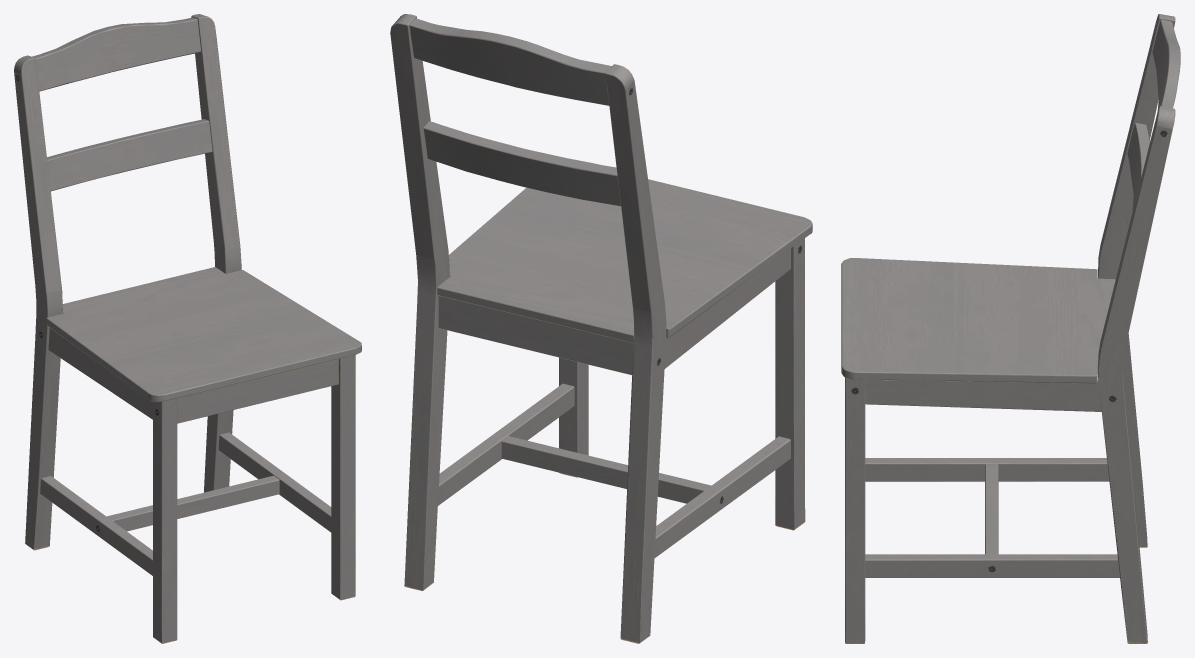
The model's file is 23 - HAUGA - 餐椅, 灰色 IKEA 線上購物.glb.
3 views of the same model, side by side, from view 1: azimuth 30°, elevation 25°; view 2: azimuth 150°, elevation 25°; view 3: azimuth 270°, elevation 25° (orthographic). The views are drawn at different scales.
Visible parts, largest first — view 1: ASY_ART_30576717_S01_NV01; view 2: ASY_ART_30576717_S01_NV01; view 3: ASY_ART_30576717_S01_NV01.
Part boxes in pixels (x1=…): ASY_ART_30576717_S01_NV01: x1=14, y1=14, x2=361, y2=643; ASY_ART_30576717_S01_NV01: x1=390, y1=14, x2=812, y2=643; ASY_ART_30576717_S01_NV01: x1=841, y1=14, x2=1180, y2=643.
Bounding box in the file's own units: 0.3986 × 0.8707 × 0.4985.
Materials: 1 (1 with a texture image).
